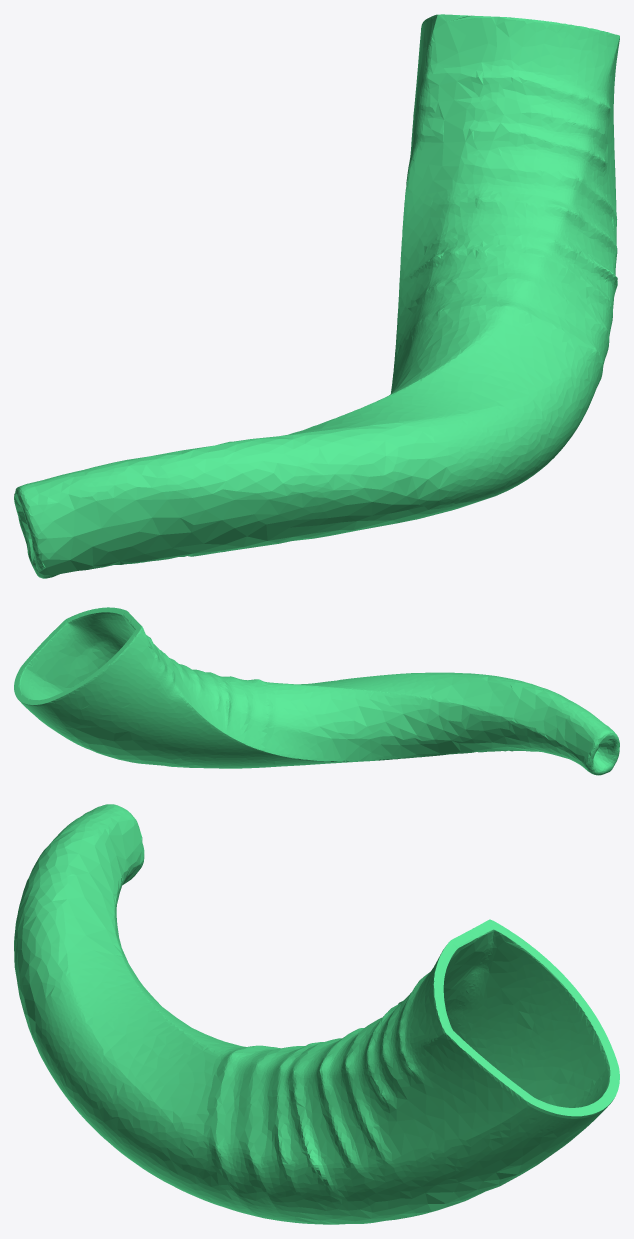
Rendered from horn.glb.
3 renders of one model, top to bottom at view 1: azimuth 30°, elevation 25°; view 2: azimuth 150°, elevation 25°; view 3: azimuth 270°, elevation 25°, orthographic. The views are drawn at different scales.
Visible parts, largest first — view 1: shofarV2; view 2: shofarV2; view 3: shofarV2.
Boxes of the visible parts, <box> form: shofarV2: <box>14,14,619,578</box>; shofarV2: <box>14,607,619,775</box>; shofarV2: <box>14,804,619,1224</box>.
Bounding box in the file's own units: 4.07 × 1.53 × 2.76.
